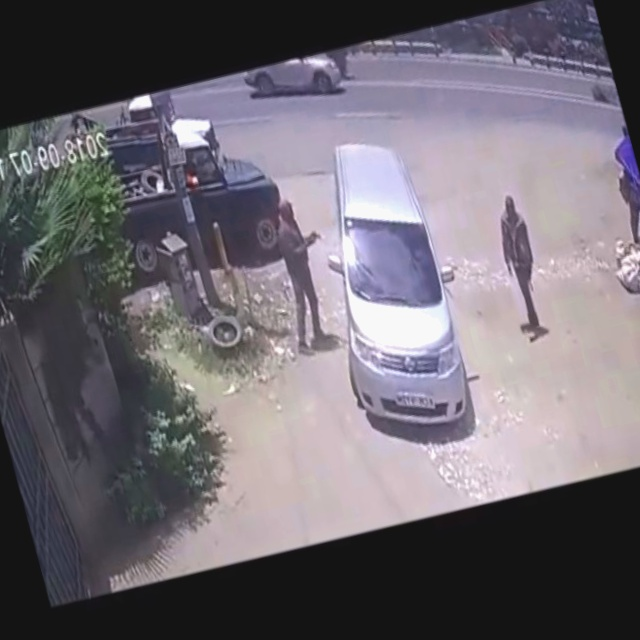gun: (307, 222, 327, 244)
